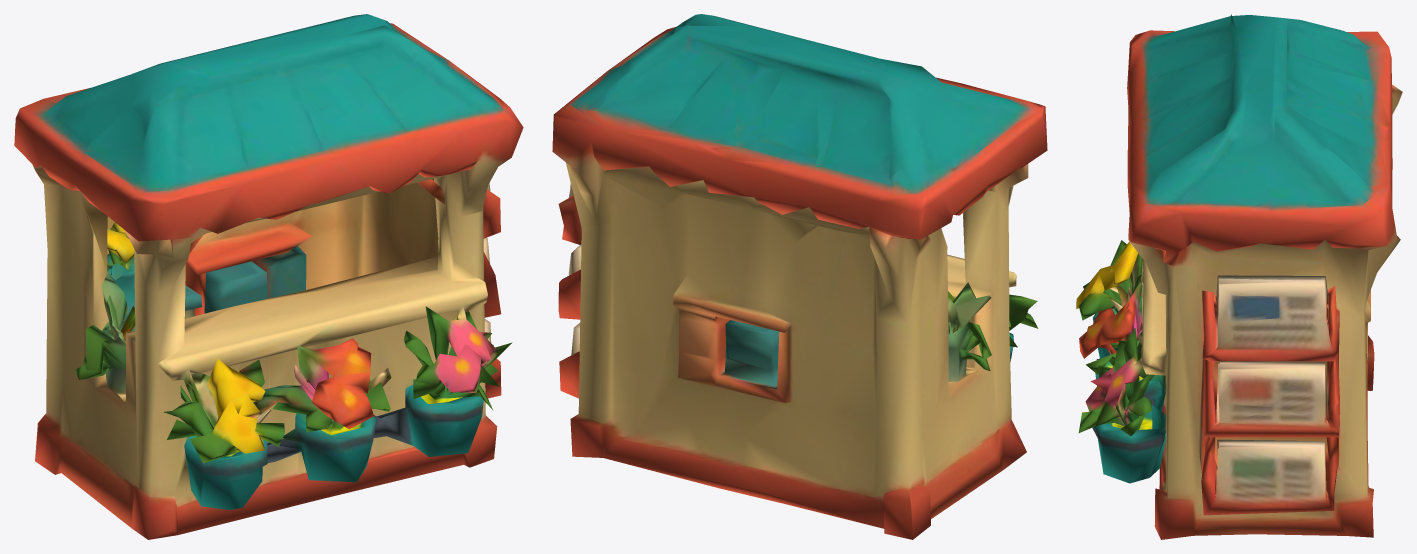
File: city-flower-kiosk.glb
3 renders of one model, left to right at view 1: azimuth 30°, elevation 25°; view 2: azimuth 150°, elevation 25°; view 3: azimuth 270°, elevation 25°, orthographic. The views are drawn at different scales.
Parts seen in each view (by area): view 1: city-flower-kiosk; view 2: city-flower-kiosk; view 3: city-flower-kiosk.
Part boxes in pixels (bbox=[...]): city-flower-kiosk: bbox=[14, 14, 523, 539]; city-flower-kiosk: bbox=[552, 14, 1047, 539]; city-flower-kiosk: bbox=[1076, 14, 1402, 539].
Bounding box in the file's own units: 2.7 × 2.7 × 2.
Materials: 1 (1 with a texture image).
